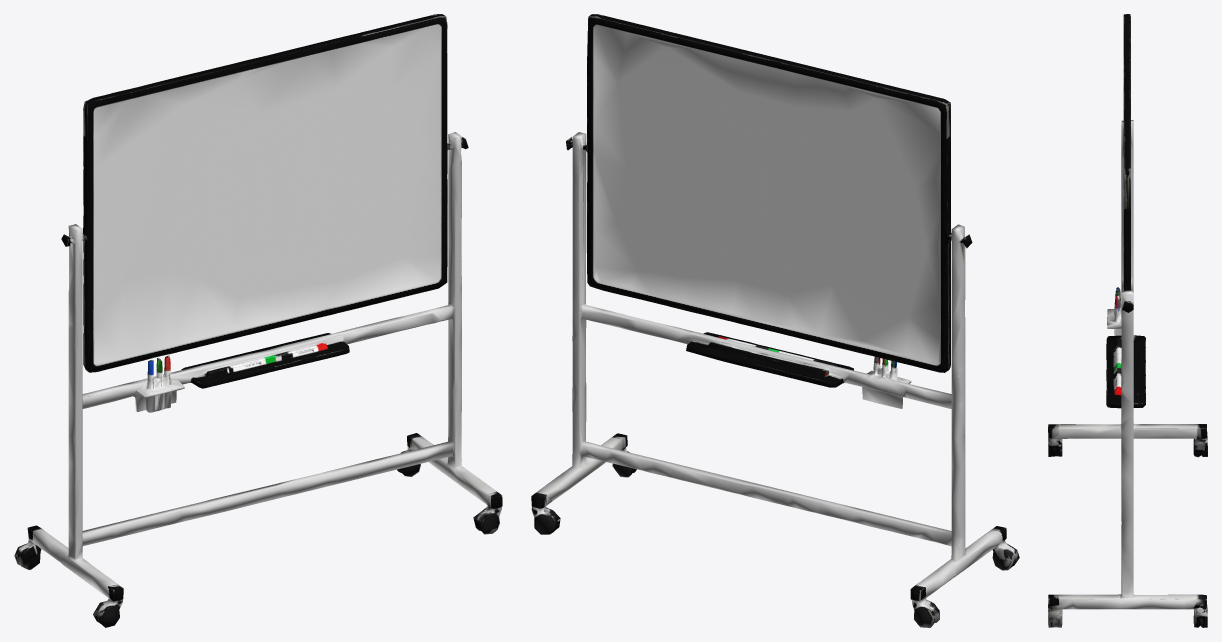
Rendered from Meshy_AI_Mobile_Whiteboard_0403034314_texture.fbx.
The picture shows the model from 3 angles, left to right: view 1: azimuth 30°, elevation 25°; view 2: azimuth 150°, elevation 25°; view 3: azimuth 270°, elevation 25°; orthographic projection. The views are drawn at different scales.
Visible parts, largest first — view 1: Mesh_0; view 2: Mesh_0; view 3: Mesh_0.
Part boxes in pixels (left/top/right/bottom): Mesh_0: left=14, top=14, right=502, bottom=627; Mesh_0: left=531, top=14, right=1019, bottom=627; Mesh_0: left=1048, top=14, right=1207, bottom=627.
Size of the model in its own units: 167 by 191 by 61.24.
1 material, 1 textured.
